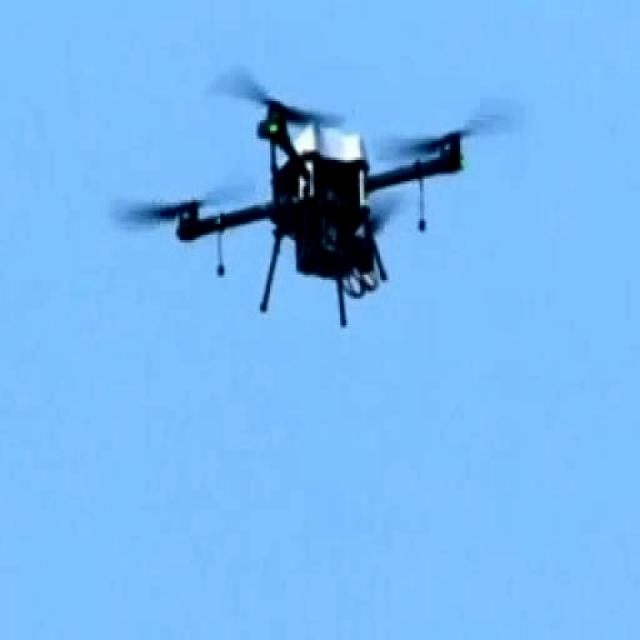bird: (120, 39, 544, 334)
